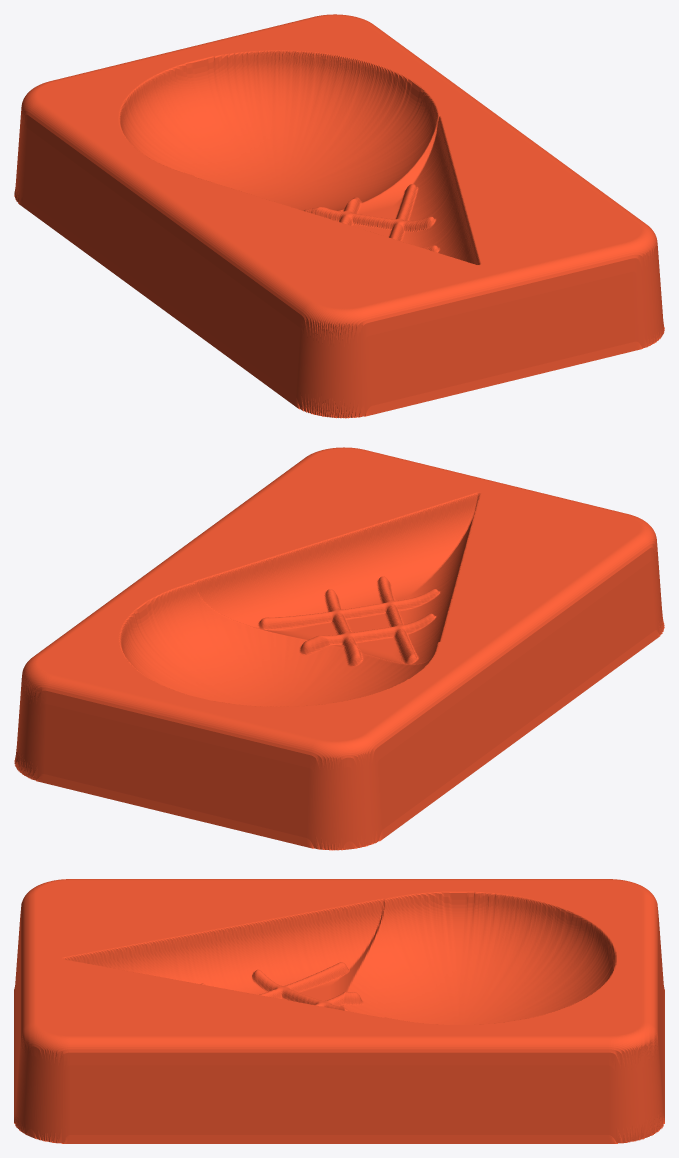
Rendered from mold.glb.
The picture shows the model from 3 angles, top to bottom: view 1: azimuth 30°, elevation 25°; view 2: azimuth 150°, elevation 25°; view 3: azimuth 270°, elevation 25°; orthographic projection.
Parts seen in each view (by area): view 1: geometry_0; view 2: geometry_0; view 3: geometry_0.
Boxes of the visible parts, bbox=[...] form: geometry_0: bbox=[14, 14, 664, 418]; geometry_0: bbox=[14, 447, 664, 850]; geometry_0: bbox=[14, 879, 664, 1143].
Size of the model in its own units: 0.0666 by 0.0175 by 0.105.
